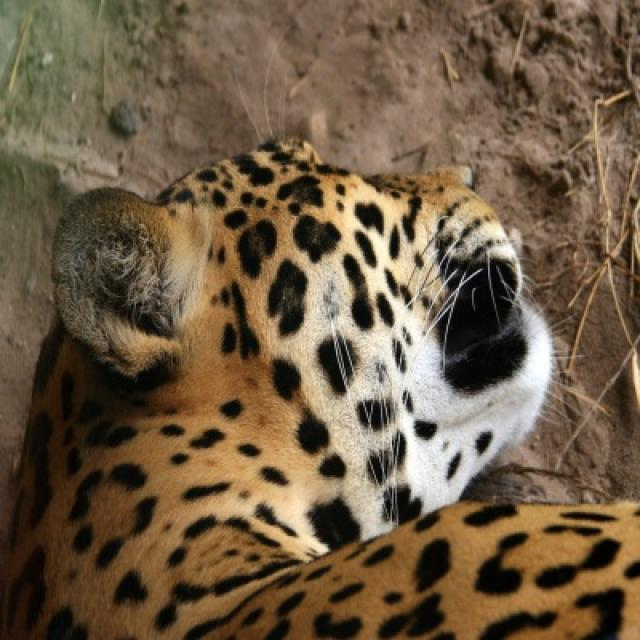Jaguar: (0, 138, 555, 638)
